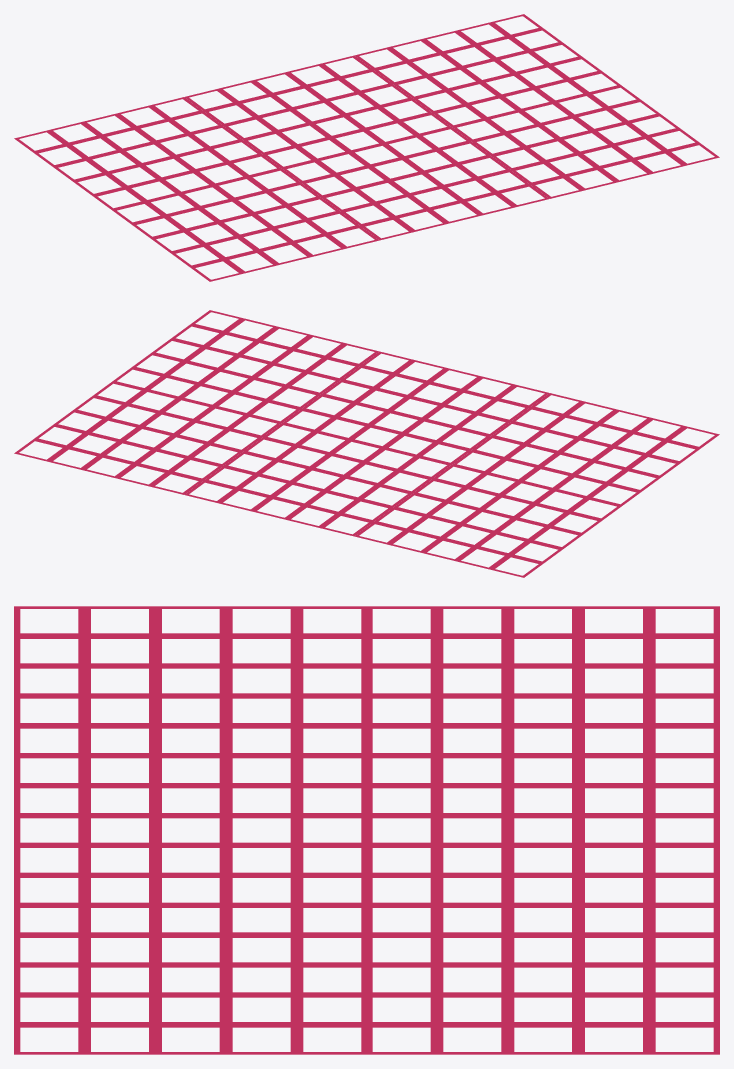
The model's file is deform2.gltf.glb.
3 views of the same model, one above another, from view 1: azimuth 30°, elevation 25°; view 2: azimuth 150°, elevation 25°; view 3: azimuth 270°, elevation 25° (orthographic). The views are drawn at different scales.
Parts seen in each view (by area): view 1: Plane.003, Plane.009, Plane.010, Plane.013, Plane.011, Plane.012; view 2: Plane.012, Plane.010, Plane.003, Plane.011, Plane.013, Plane.009; view 3: Plane.009, Plane.012, Plane.003, Plane.010, Plane.011, Plane.013.
Part boxes in pixels (bbox=[...]): Plane.003: bbox=[14, 97, 281, 210]; Plane.009: bbox=[184, 55, 451, 168]; Plane.010: bbox=[354, 14, 621, 126]; Plane.013: bbox=[452, 86, 719, 198]; Plane.011: bbox=[112, 169, 379, 281]; Plane.012: bbox=[282, 127, 549, 240]; Plane.012: bbox=[282, 351, 549, 464]; Plane.010: bbox=[14, 381, 281, 494]; Plane.003: bbox=[354, 465, 621, 577]; Plane.011: bbox=[452, 393, 719, 505]; Plane.013: bbox=[112, 310, 379, 422]; Plane.009: bbox=[184, 423, 451, 536]; Plane.009: bbox=[366, 755, 719, 905]; Plane.012: bbox=[14, 755, 367, 905]; Plane.003: bbox=[366, 606, 719, 755]; Plane.010: bbox=[366, 905, 719, 1054]; Plane.011: bbox=[14, 606, 367, 755]; Plane.013: bbox=[14, 905, 367, 1054].
Size of the model in its own units: 1.86 by 0 by 1.24.
